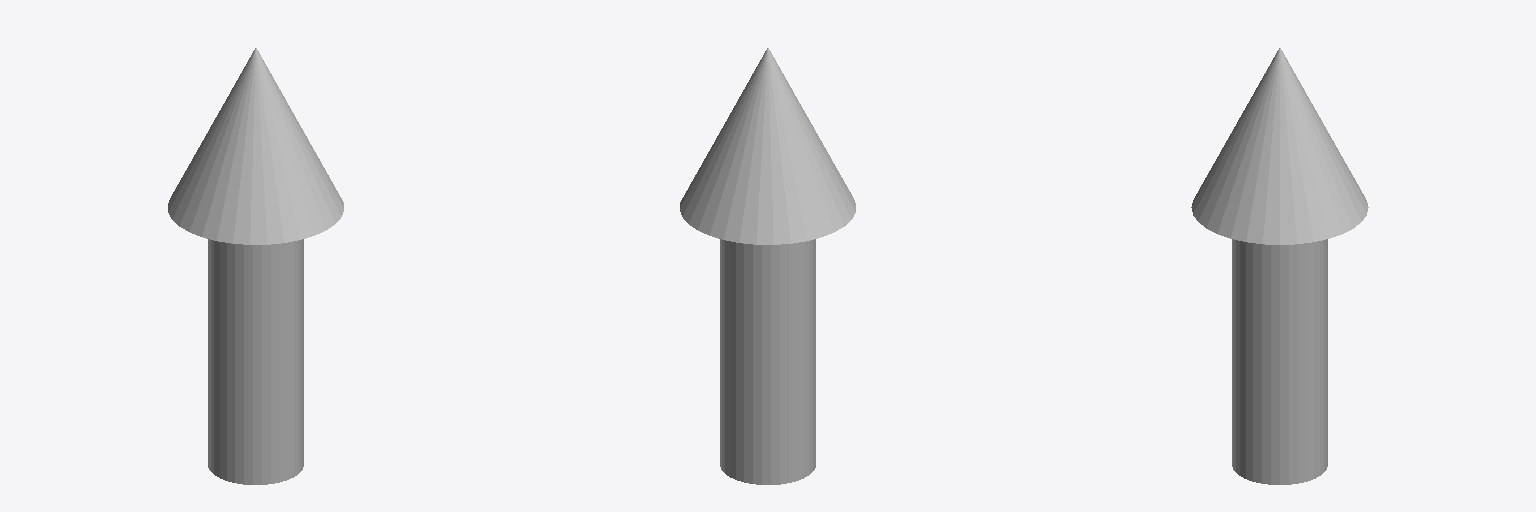
Rendered from arrow.obj.
The picture shows the model from 3 angles: view 1: azimuth 30°, elevation 25°; view 2: azimuth 150°, elevation 25°; view 3: azimuth 270°, elevation 25°; orthographic projection.
Visible parts, largest first — view 1: Cylinder; view 2: Cylinder; view 3: Cylinder.
Part boxes in pixels (bbox=[...]): Cylinder: bbox=[168, 48, 343, 484]; Cylinder: bbox=[680, 48, 855, 484]; Cylinder: bbox=[1191, 48, 1368, 484].
Size of the model in its own units: 1.23 by 3.19 by 1.23.